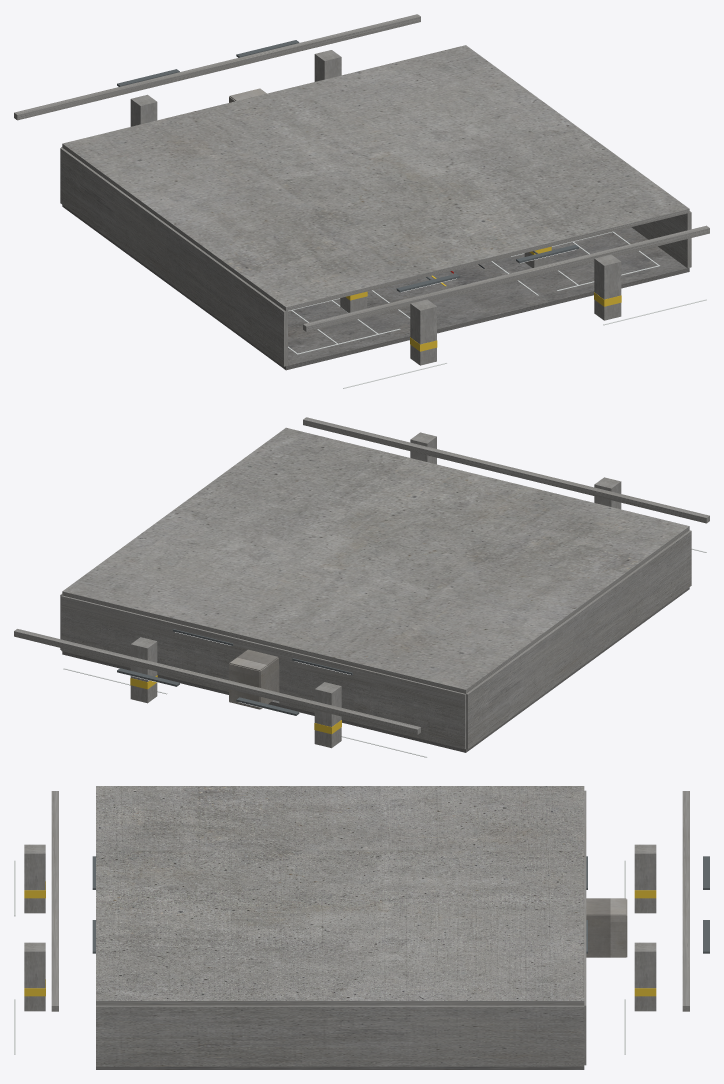
The model's file is 10_misleveled_elevator_car.glb.
3 views of the same model, one above another, from view 1: azimuth 30°, elevation 25°; view 2: azimuth 150°, elevation 25°; view 3: azimuth 270°, elevation 25° (orthographic). The views are drawn at different scales.
Visible parts, largest first — view 1: Concrete ceiling, Concrete floor, Left retaining wall, Overhead beam.004, Overhead beam, Concrete support column.005, Right retaining wall, Concrete support column, Concrete support column.004, Concrete support column.009; view 2: Concrete ceiling, Left retaining wall, Landing wall upper strip, Landing wall pier, Landing wall pier.001, Overhead beam, Overhead beam.004, Concrete floor, Concrete support column.004, Concrete support column.009, Elevator cab rear wall, Elevator car ceiling (+1 smaller); view 3: Concrete ceiling, Right retaining wall, Concrete floor, Overhead beam, Overhead beam.004, Elevator cab right wall, Concrete support column.004, Concrete support column.009, Concrete support column, Concrete support column.005, Elevator car ceiling, Landing wall upper strip.
Boxes of the visible parts, x1,y1,x2,y2 form: Concrete ceiling: [62, 45, 689, 311]; Concrete floor: [62, 205, 689, 370]; Left retaining wall: [60, 147, 287, 366]; Overhead beam.004: [14, 14, 420, 120]; Overhead beam: [303, 225, 709, 331]; Concrete support column.005: [594, 254, 621, 320]; Right retaining wall: [631, 211, 691, 268]; Concrete support column: [410, 299, 436, 365]; Concrete support column.004: [130, 94, 157, 126]; Concrete support column.009: [314, 50, 341, 81]; Concrete ceiling: [62, 427, 689, 693]; Left retaining wall: [466, 530, 691, 749]; Landing wall upper strip: [61, 595, 465, 709]; Landing wall pier: [279, 664, 465, 749]; Landing wall pier.001: [61, 611, 239, 691]; Overhead beam: [303, 417, 709, 523]; Overhead beam.004: [14, 629, 420, 734]; Concrete floor: [62, 587, 689, 752]; Concrete support column.004: [314, 682, 341, 748]; Concrete support column.009: [130, 637, 157, 703]; Elevator cab rear wall: [229, 664, 259, 709]; Elevator car ceiling: [229, 649, 278, 670]; Concrete ceiling: [96, 786, 584, 1005]; Right retaining wall: [96, 1005, 584, 1066]; Concrete floor: [96, 1066, 584, 1069]; Overhead beam: [51, 791, 58, 1011]; Overhead beam.004: [682, 791, 689, 1011]; Elevator cab right wall: [586, 915, 626, 957]; Concrete support column.004: [634, 844, 656, 913]; Concrete support column.009: [634, 942, 656, 1011]; Concrete support column: [24, 844, 45, 913]; Concrete support column.005: [24, 942, 45, 1011]; Elevator car ceiling: [586, 898, 626, 915]; Landing wall upper strip: [584, 790, 586, 1021].
Bounding box in the file's own units: 25.26 × 3.73 × 34.21.
Materials: 13 (3 with a texture image).
